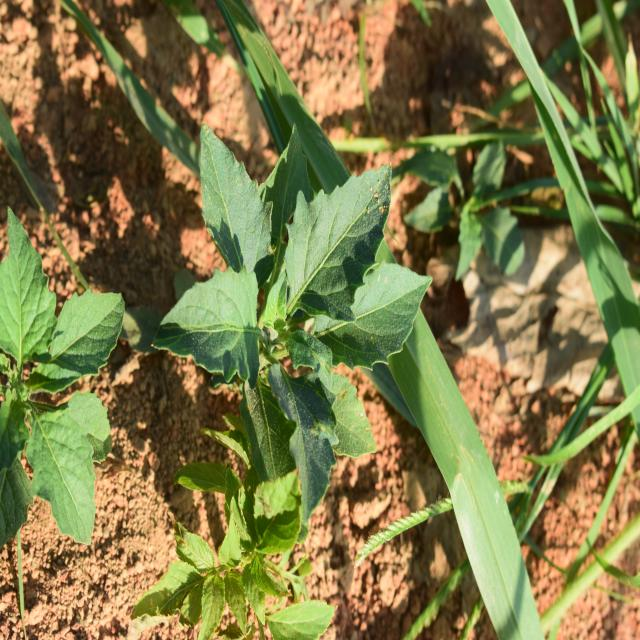Black_nightshade: (172, 134, 416, 466), (0, 249, 120, 534)
